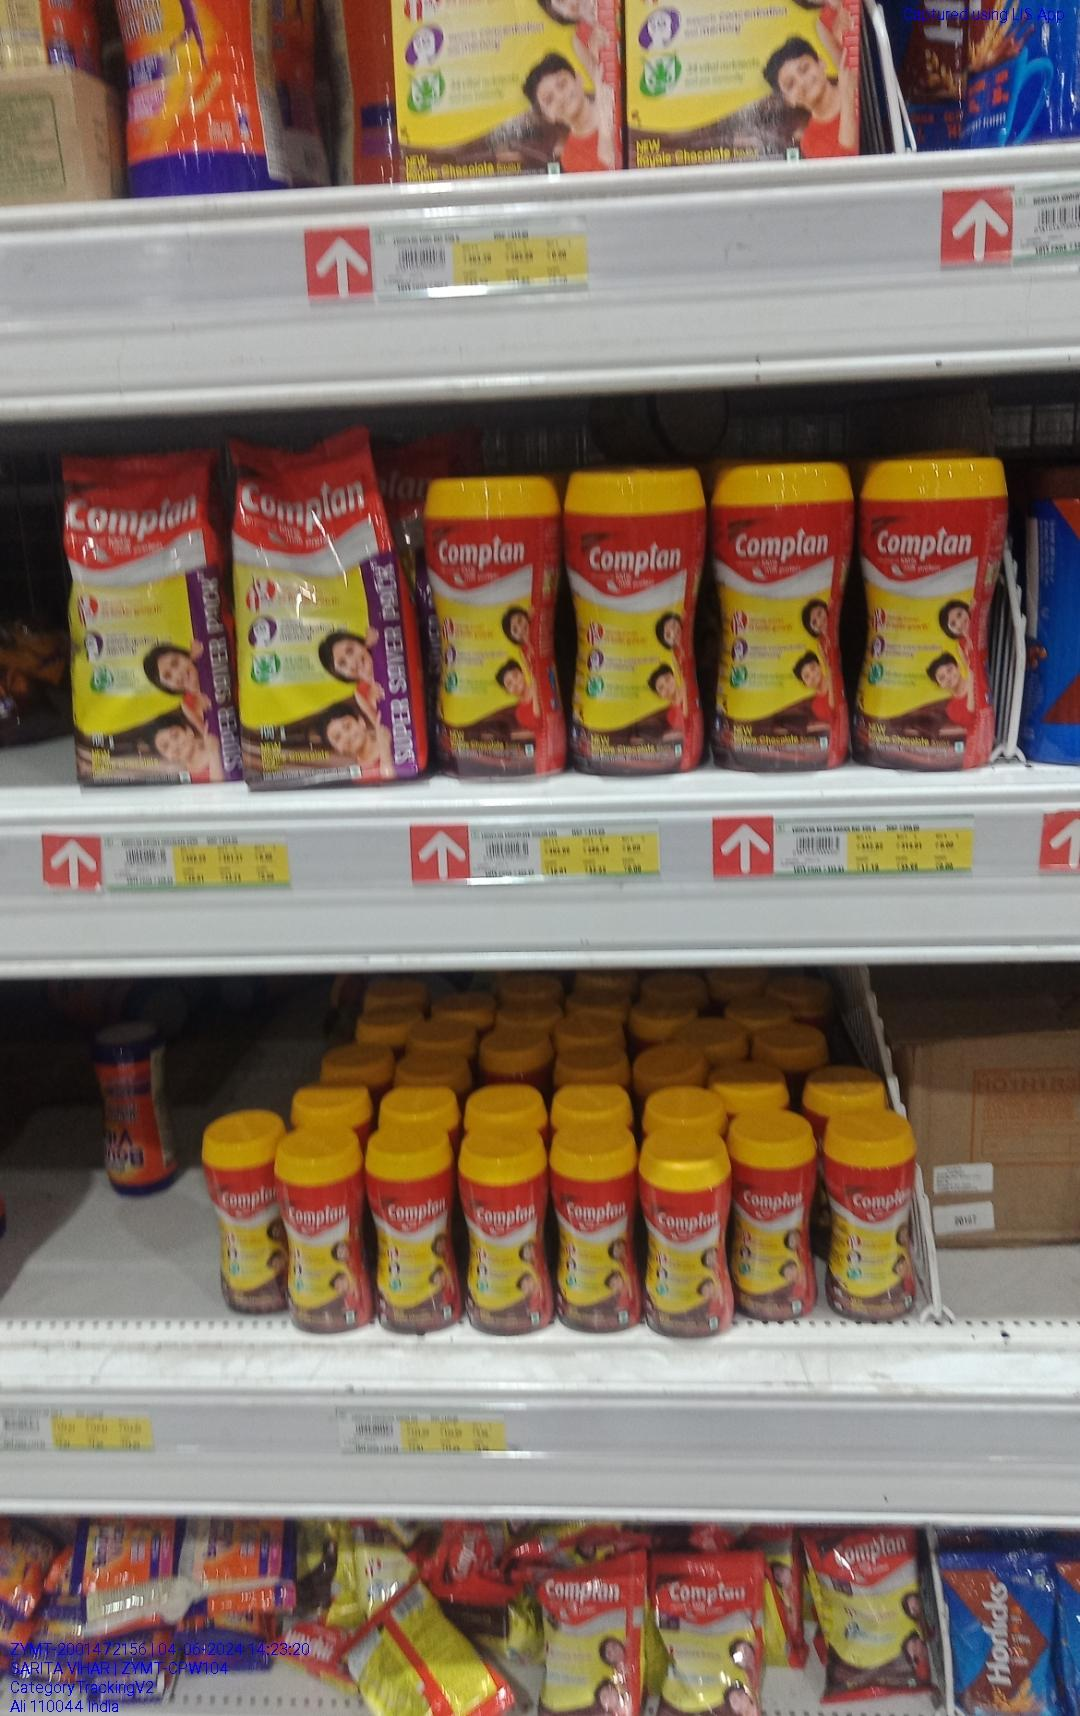COMPLAN_CHOCOLATE_200_GMS_JAR: (821, 1114, 917, 1322), (370, 1121, 458, 1335), (555, 1126, 637, 1331), (730, 1125, 816, 1320), (282, 1124, 362, 1334), (465, 1129, 546, 1334), (645, 1135, 724, 1336), (213, 1120, 277, 1314)
